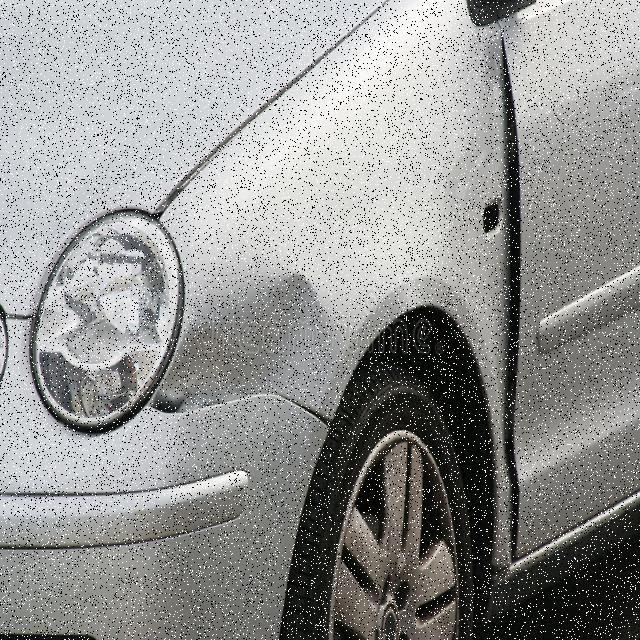bumper: (155, 96, 522, 501)
